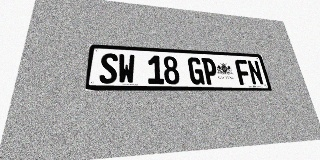1: (147, 55, 164, 84)
8: (163, 56, 180, 84)
F: (234, 59, 252, 85)
G: (187, 57, 205, 84)
N: (246, 60, 264, 85)
P: (201, 58, 219, 85)
S: (99, 53, 118, 84)
W: (118, 54, 135, 84)
